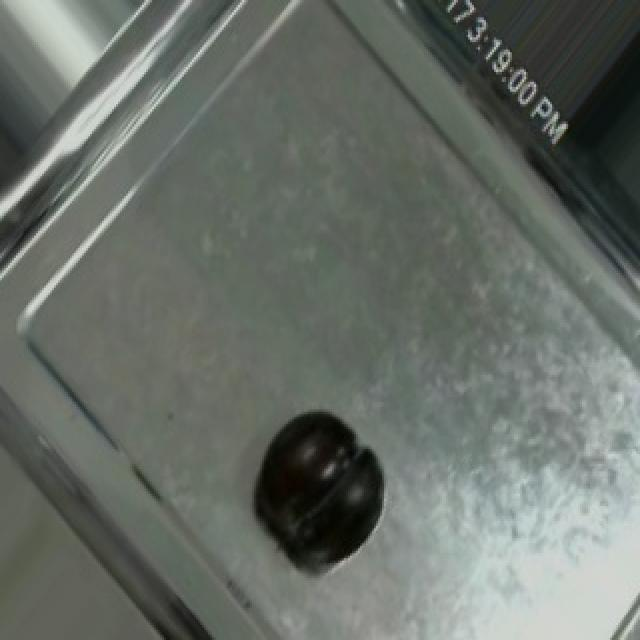Fruit: (238, 392, 396, 578)
